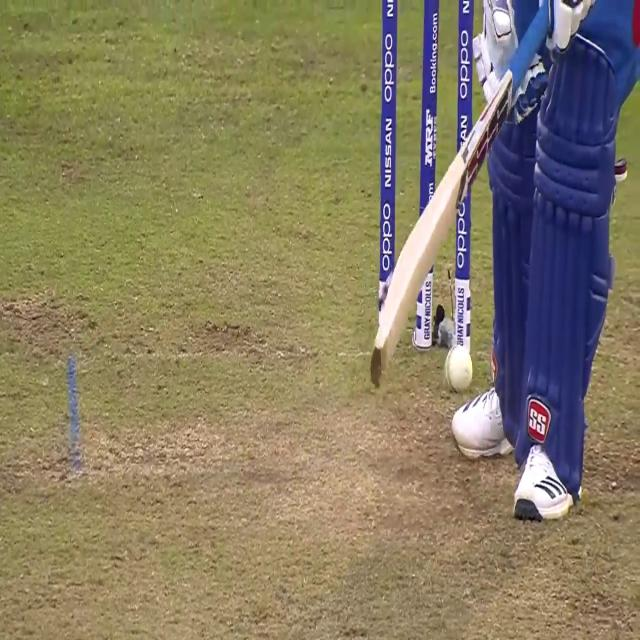ball: (444, 342, 474, 388)
